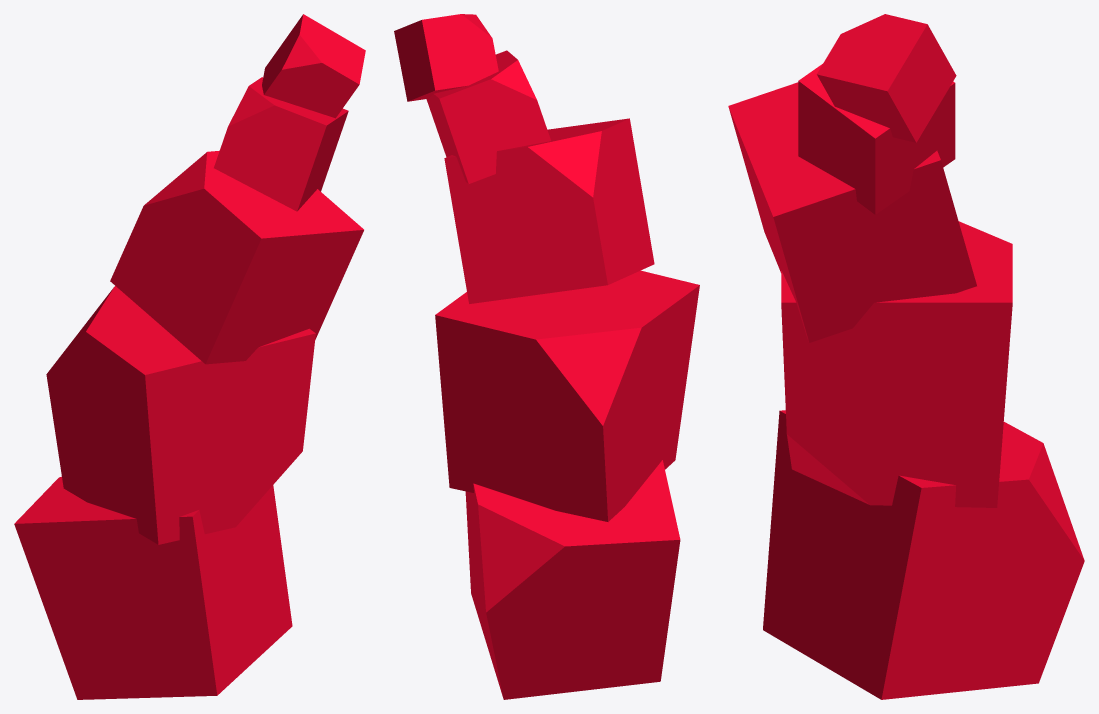
The model's file is CubRock003.FBX.
3 views of the same model, side by side, from view 1: azimuth 30°, elevation 25°; view 2: azimuth 150°, elevation 25°; view 3: azimuth 270°, elevation 25° (orthographic). The views are drawn at different scales.
Parts seen in each view (by area): view 1: RockPile05, RockPile04, RockPile03, RockPile01, RockPile02; view 2: RockPile05, RockPile04, RockPile03, RockPile01, RockPile02; view 3: RockPile04, RockPile05, RockPile03, RockPile02, RockPile01.
Boxes of the visible parts, box(x1,y1,x2,y2) form: RockPile05: box(46, 286, 315, 544); RockPile04: box(14, 476, 292, 699); RockPile03: box(110, 150, 363, 364); RockPile01: box(214, 77, 348, 211); RockPile02: box(262, 14, 365, 118); RockPile05: box(435, 270, 699, 521); RockPile04: box(465, 460, 680, 699); RockPile03: box(444, 118, 654, 303); RockPile01: box(426, 50, 550, 183); RockPile02: box(394, 14, 498, 101); RockPile04: box(763, 410, 1084, 699); RockPile05: box(781, 221, 1012, 507); RockPile03: box(728, 82, 976, 342); RockPile02: box(817, 14, 956, 142); RockPile01: box(798, 64, 955, 214).
Size of the model in its own units: 87.34 by 162 by 71.43.
